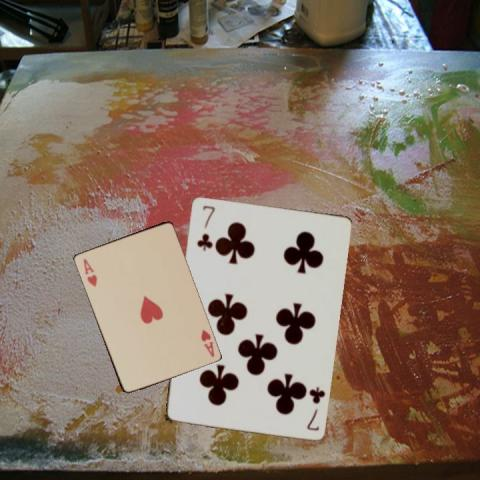7c: (193, 202, 216, 251), (303, 383, 326, 432)
Ah: (80, 255, 98, 288), (198, 327, 216, 358)
